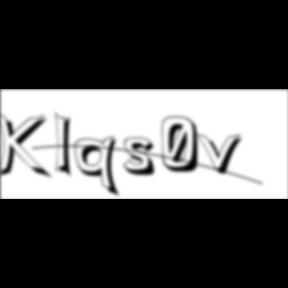0: (162, 115, 206, 174)
I: (55, 110, 79, 182)
K: (0, 110, 54, 182)
q: (74, 135, 124, 200)
s: (124, 137, 162, 179)
v: (195, 131, 249, 177)
